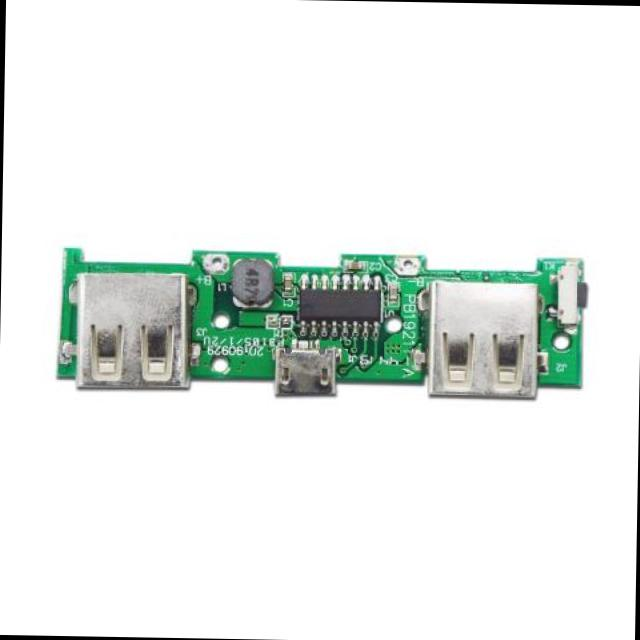IC: (291, 276, 386, 342)
capacitor: (388, 274, 402, 305), (344, 258, 366, 274), (280, 270, 294, 292)
connector: (420, 279, 544, 407), (74, 269, 195, 394), (270, 343, 338, 403)
